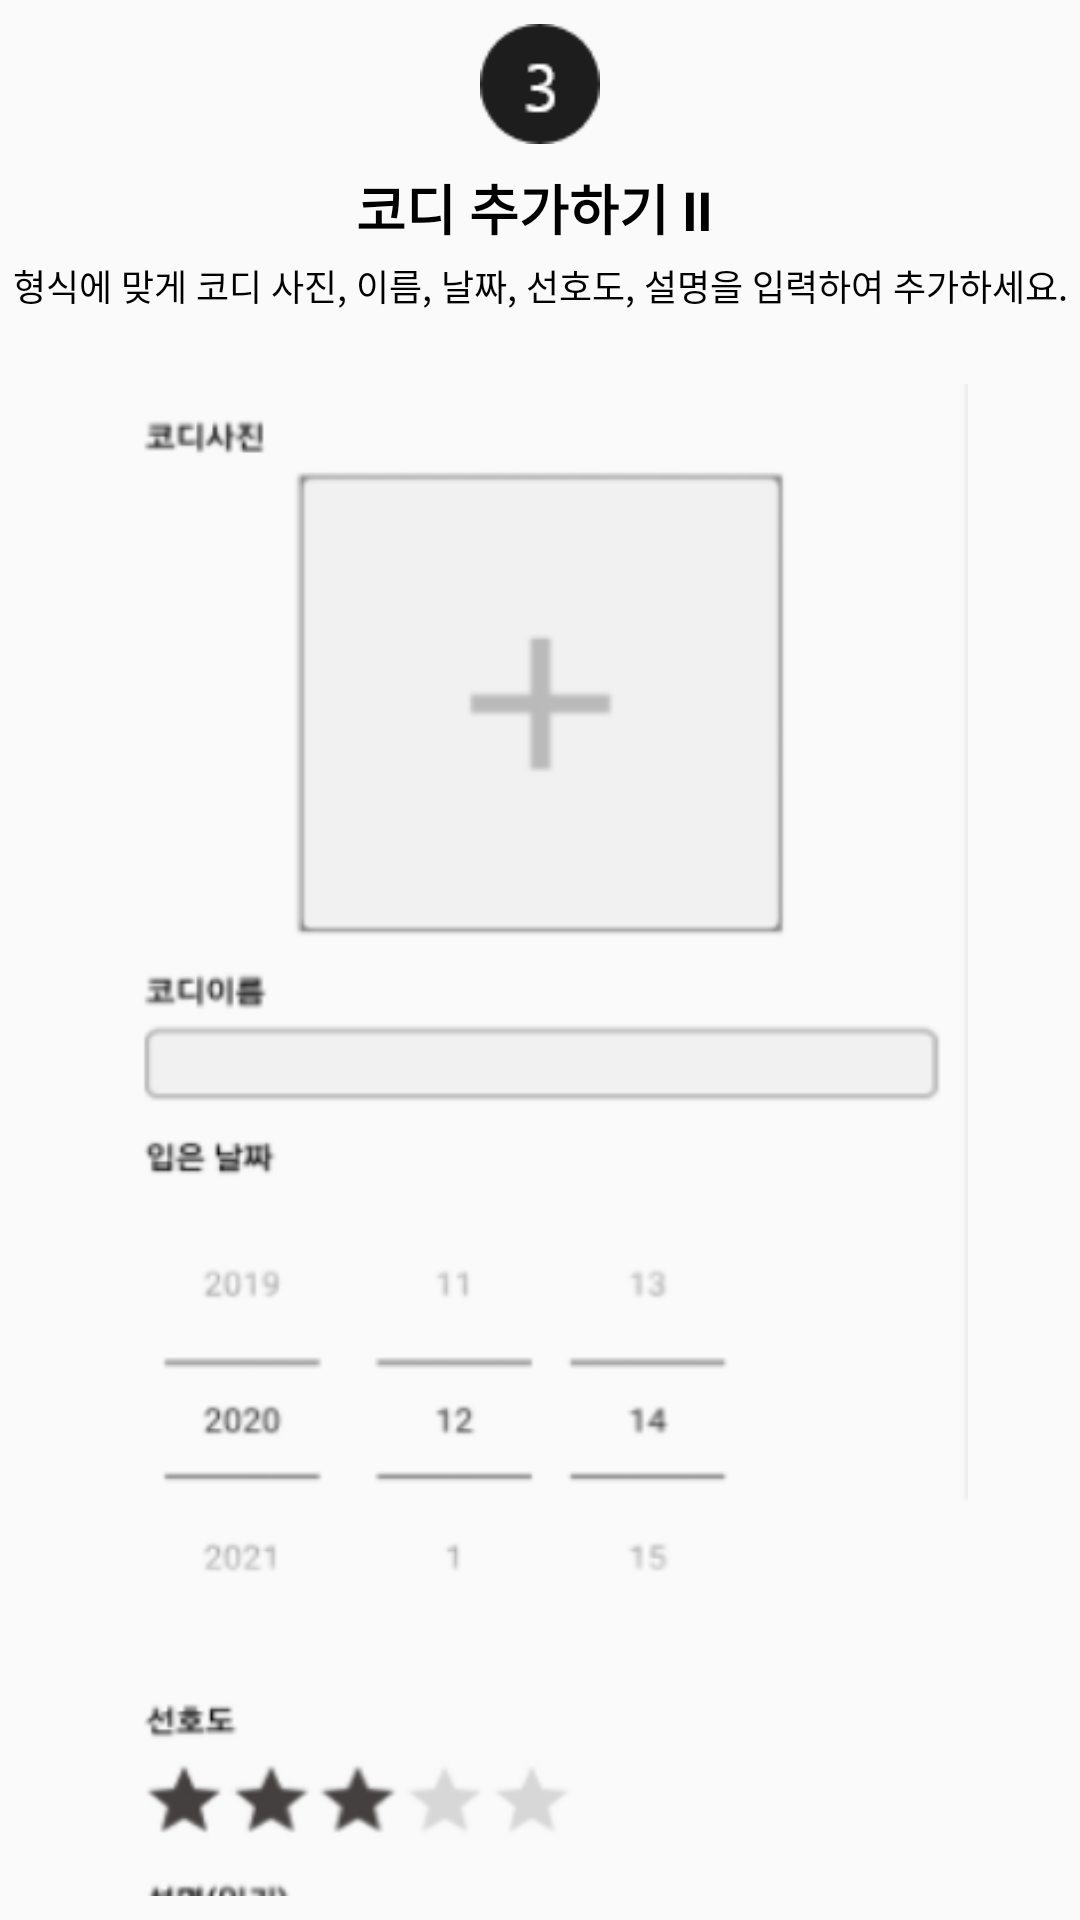

Named icons in this screenshot (1080px x 1920px) and their centers, (x=x, y=y):
circle three: (x=540, y=84)
